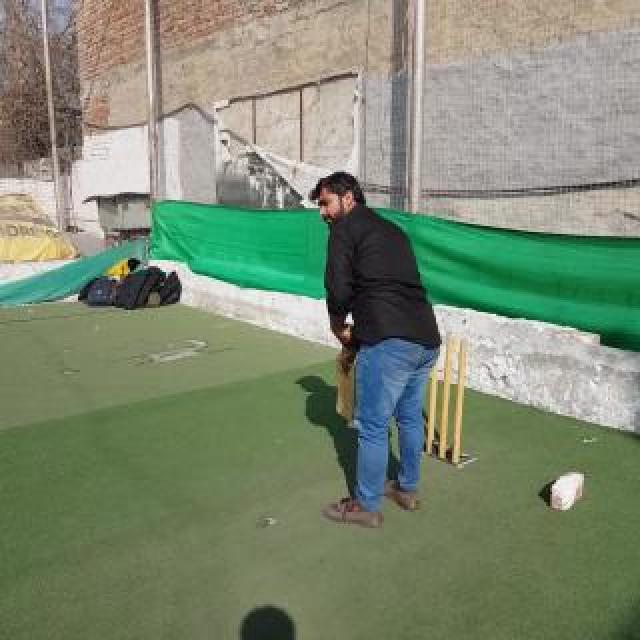bat: (335, 354, 355, 420)
